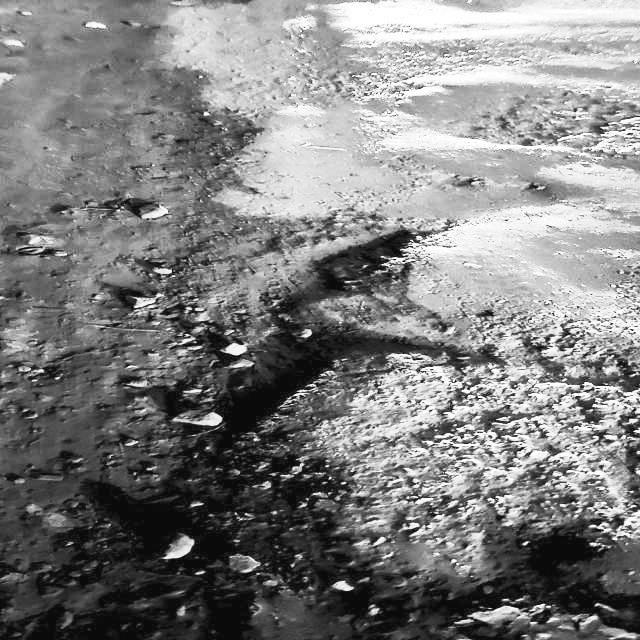Pothole: (256, 190, 433, 403), (481, 83, 620, 160)
